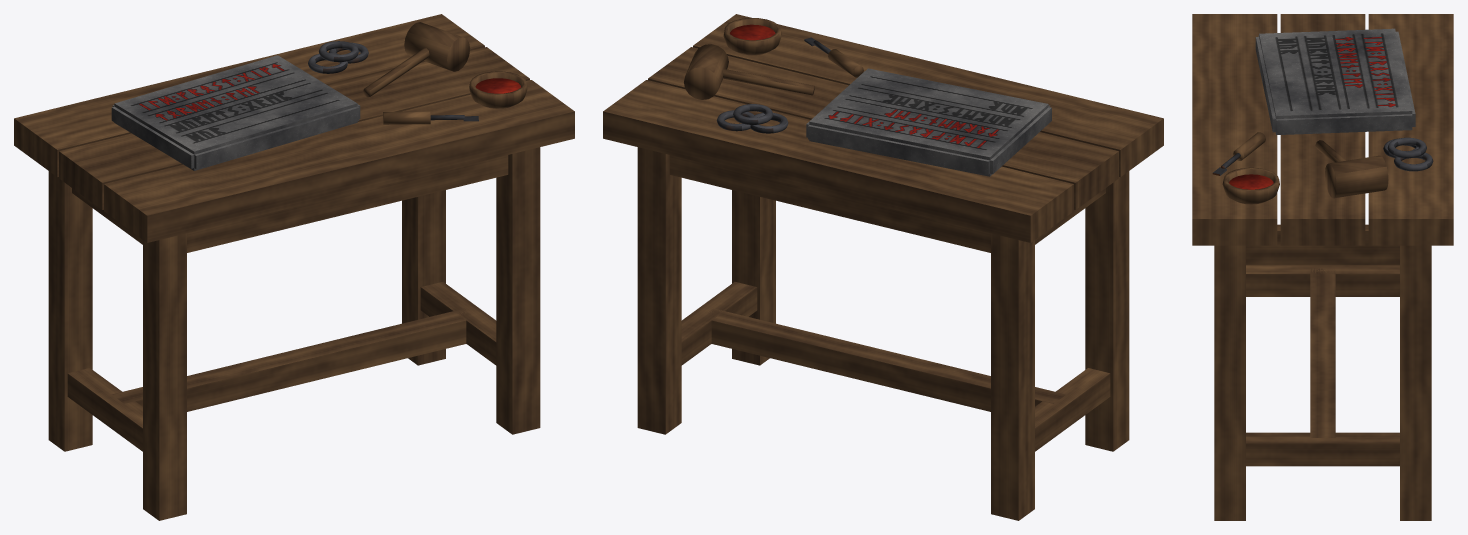
The model's file is runeetchingtable.glb.
The picture shows the model from 3 angles, left to right: view 1: azimuth 30°, elevation 25°; view 2: azimuth 150°, elevation 25°; view 3: azimuth 270°, elevation 25°; orthographic projection.
Visible parts, largest first — view 1: board0, slab, leg1-1, leg-1-1, leg-11, stretcher, board2, board1, apron-1, leg11, foot-1, foot1 (+4 smaller); view 2: board2, slab, board0, leg11, leg-11, leg-1-1, stretcher, board1, apron1, leg1-1, foot-1, foot1 (+3 smaller); view 3: board0, slab, board2, board1, leg1-1, leg11, foot1, stretcher, foot-1, end_apron1, mallet_head, bowl (+5 smaller).
Part boxes in pixels (x1,y1,x2,y2): board0: [104, 80, 574, 242]; slab: [111, 55, 360, 170]; leg1-1: [496, 147, 540, 434]; leg-1-1: [143, 233, 186, 520]; leg-11: [48, 171, 92, 451]; stretcher: [111, 308, 468, 411]; board2: [14, 14, 484, 176]; board1: [59, 47, 529, 209]; apron-1: [187, 155, 508, 252]; leg11: [402, 190, 445, 365]; foot-1: [67, 368, 142, 451]; foot1: [420, 282, 496, 365]; board2: [603, 80, 1073, 242]; slab: [806, 68, 1051, 176]; board0: [693, 14, 1163, 176]; leg11: [637, 147, 681, 434]; leg-11: [991, 233, 1034, 520]; leg-1-1: [1085, 171, 1129, 451]; stretcher: [708, 308, 1066, 411]; board1: [648, 47, 1118, 209]; apron1: [669, 155, 990, 252]; leg1-1: [732, 190, 775, 365]; foot-1: [1035, 368, 1110, 451]; foot1: [681, 282, 757, 365]; board0: [1192, 14, 1277, 245]; slab: [1255, 28, 1415, 135]; board2: [1368, 14, 1453, 245]; board1: [1280, 14, 1365, 245]; leg1-1: [1214, 245, 1245, 520]; leg11: [1400, 245, 1431, 520]; foot1: [1246, 432, 1399, 466]; stretcher: [1310, 268, 1335, 437]; foot-1: [1246, 265, 1399, 296]; end_apron1: [1246, 224, 1399, 265]; mallet_head: [1325, 155, 1388, 198]; bowl: [1222, 167, 1279, 204].
Size of the model in its own units: 1.15 by 0.904 by 0.62.
Materials: 4 (4 with a texture image).
